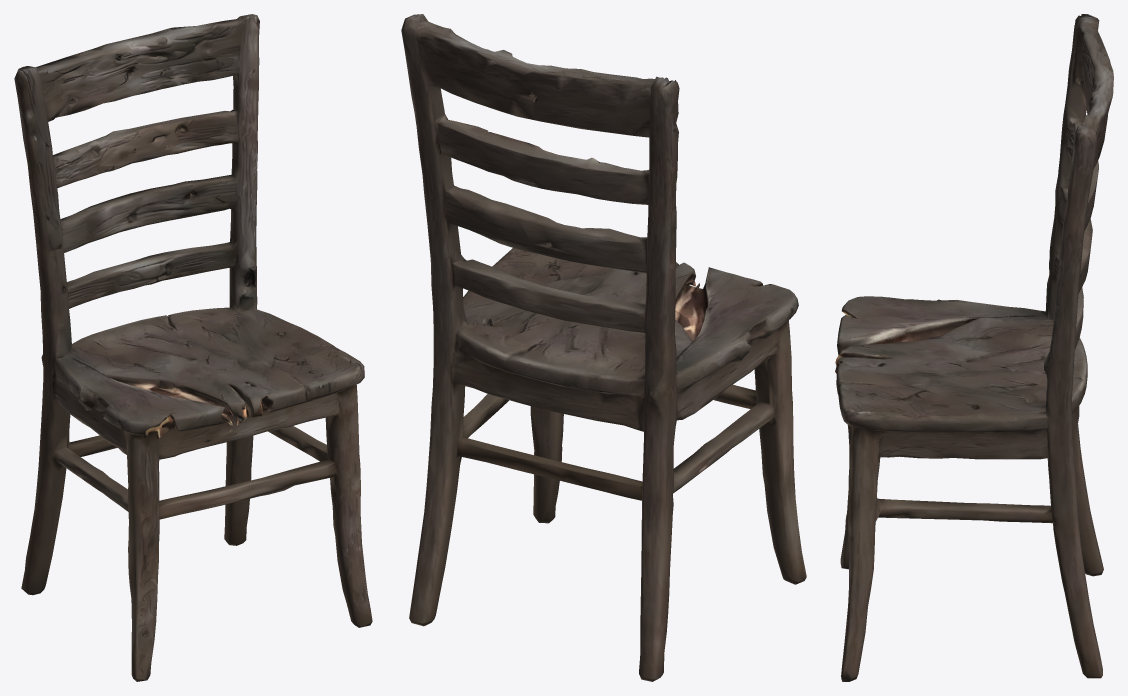
The model's file is level-xw0-chair.glb.
3 views of the same model, side by side, from view 1: azimuth 30°, elevation 25°; view 2: azimuth 150°, elevation 25°; view 3: azimuth 270°, elevation 25° (orthographic). The views are drawn at different scales.
Visible parts, largest first — view 1: tripo_node_aac6c9ff-b374-4b27-9473-647dcedf3f39; view 2: tripo_node_aac6c9ff-b374-4b27-9473-647dcedf3f39; view 3: tripo_node_aac6c9ff-b374-4b27-9473-647dcedf3f39.
Part boxes in pixels (x1,y1,x2,y2): tripo_node_aac6c9ff-b374-4b27-9473-647dcedf3f39: [14, 14, 372, 681]; tripo_node_aac6c9ff-b374-4b27-9473-647dcedf3f39: [401, 14, 806, 681]; tripo_node_aac6c9ff-b374-4b27-9473-647dcedf3f39: [835, 14, 1113, 681].
Bounding box in the file's own units: 0.44 × 0.92 × 0.42.
1 material, 1 textured.
